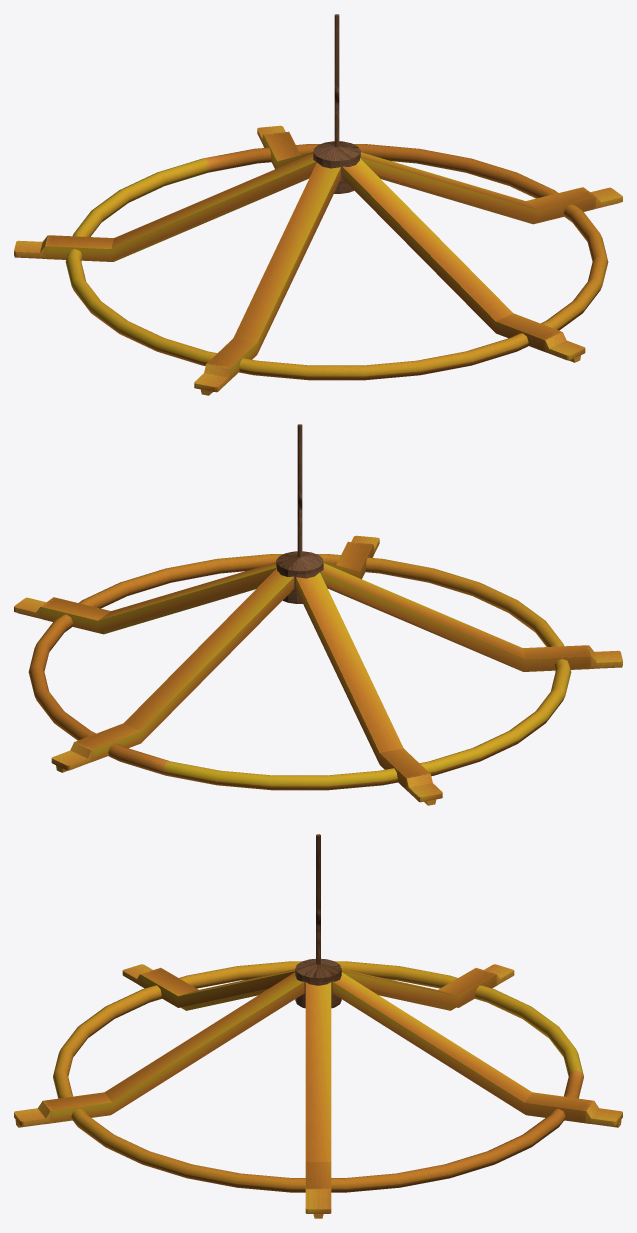
3 views of the same model, one above another, from view 1: azimuth 30°, elevation 25°; view 2: azimuth 150°, elevation 25°; view 3: azimuth 270°, elevation 25° (orthographic). The views are drawn at different scales.
Parts seen in each view (by area): view 1: Torus001, Metal thingy003_Part_1, Metal thingy002_Part_3, Metal thingy004_Part_1, Metal thingy004_Part_3, Metal thingy002_Part_2, Metal thingy003_Part_2, Metal thingy_Part_3, Metal thingy_Part_1, Metal thingy_Part_2, Cylinder001_Part_1, Metal thingy001_Part_3 (+2 smaller); view 2: Torus001, Metal thingy001_Part_1, Metal thingy003_Part_1, Metal thingy002_Part_3, Metal thingy001_Part_3, Metal thingy002_Part_2, Metal thingy003_Part_2, Metal thingy_Part_3, Metal thingy_Part_1, Cylinder001_Part_1, Metal thingy_Part_2, Metal thingy004_Part_3; view 3: Torus001, Metal thingy001_Part_1, Metal thingy004_Part_1, Metal thingy001_Part_3, Metal thingy002_Part_3, Metal thingy_Part_1, Metal thingy004_Part_2, Metal thingy_Part_2, Metal thingy_Part_3, Metal thingy003_Part_1, Metal thingy003_Part_2, Metal thingy004_Part_3 (+3 smaller).
Part boxes in pixels (box(x1,y1,x2,y2)): Torus001: box(65, 144, 608, 380); Metal thingy003_Part_1: box(244, 162, 340, 335); Metal thingy002_Part_3: box(14, 198, 207, 261); Metal thingy004_Part_1: box(342, 158, 469, 285); Metal thingy004_Part_3: box(449, 272, 578, 362); Metal thingy002_Part_2: box(199, 153, 315, 221); Metal thingy003_Part_2: box(194, 322, 265, 395); Metal thingy_Part_3: box(510, 187, 622, 224); Metal thingy_Part_1: box(360, 152, 449, 196); Metal thingy_Part_2: box(439, 175, 525, 217); Cylinder001_Part_1: box(313, 14, 346, 168); Metal thingy001_Part_3: box(257, 125, 300, 169); Torus001: box(28, 554, 571, 790); Metal thingy001_Part_1: box(158, 568, 294, 703); Metal thingy003_Part_1: box(320, 563, 505, 661); Metal thingy002_Part_3: box(340, 672, 442, 805); Metal thingy001_Part_3: box(51, 688, 179, 772); Metal thingy002_Part_2: box(296, 572, 367, 680); Metal thingy003_Part_2: box(500, 640, 622, 671); Metal thingy_Part_3: box(14, 597, 125, 634); Metal thingy_Part_1: box(184, 562, 276, 606); Cylinder001_Part_1: box(276, 424, 323, 576); Metal thingy_Part_2: box(114, 585, 199, 627); Metal thingy004_Part_3: box(345, 536, 379, 579); Torus001: box(53, 961, 583, 1192); Metal thingy001_Part_1: box(332, 972, 487, 1083); Metal thingy004_Part_1: box(159, 972, 304, 1077); Metal thingy001_Part_3: box(476, 1064, 622, 1127); Metal thingy002_Part_3: box(389, 964, 514, 1010); Metal thingy_Part_1: box(305, 982, 331, 1075); Metal thingy004_Part_2: box(17, 1066, 169, 1127); Metal thingy_Part_2: box(305, 1072, 331, 1148); Metal thingy_Part_3: box(305, 1145, 331, 1218); Metal thingy003_Part_1: box(188, 969, 295, 1007); Metal thingy003_Part_2: box(122, 964, 207, 1010); Metal thingy004_Part_3: box(14, 1058, 163, 1126).
Size of the model in its own units: 443 by 210 by 465.
Materials: 2 (2 with a texture image).
